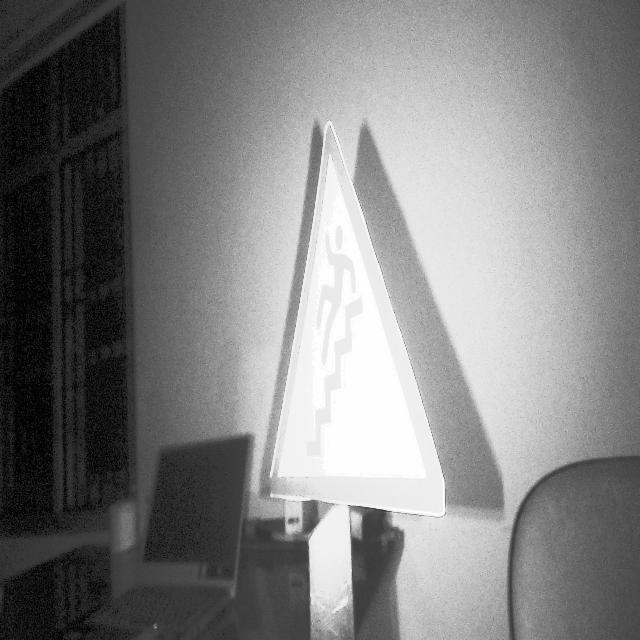Sign: (267, 118, 447, 520)
